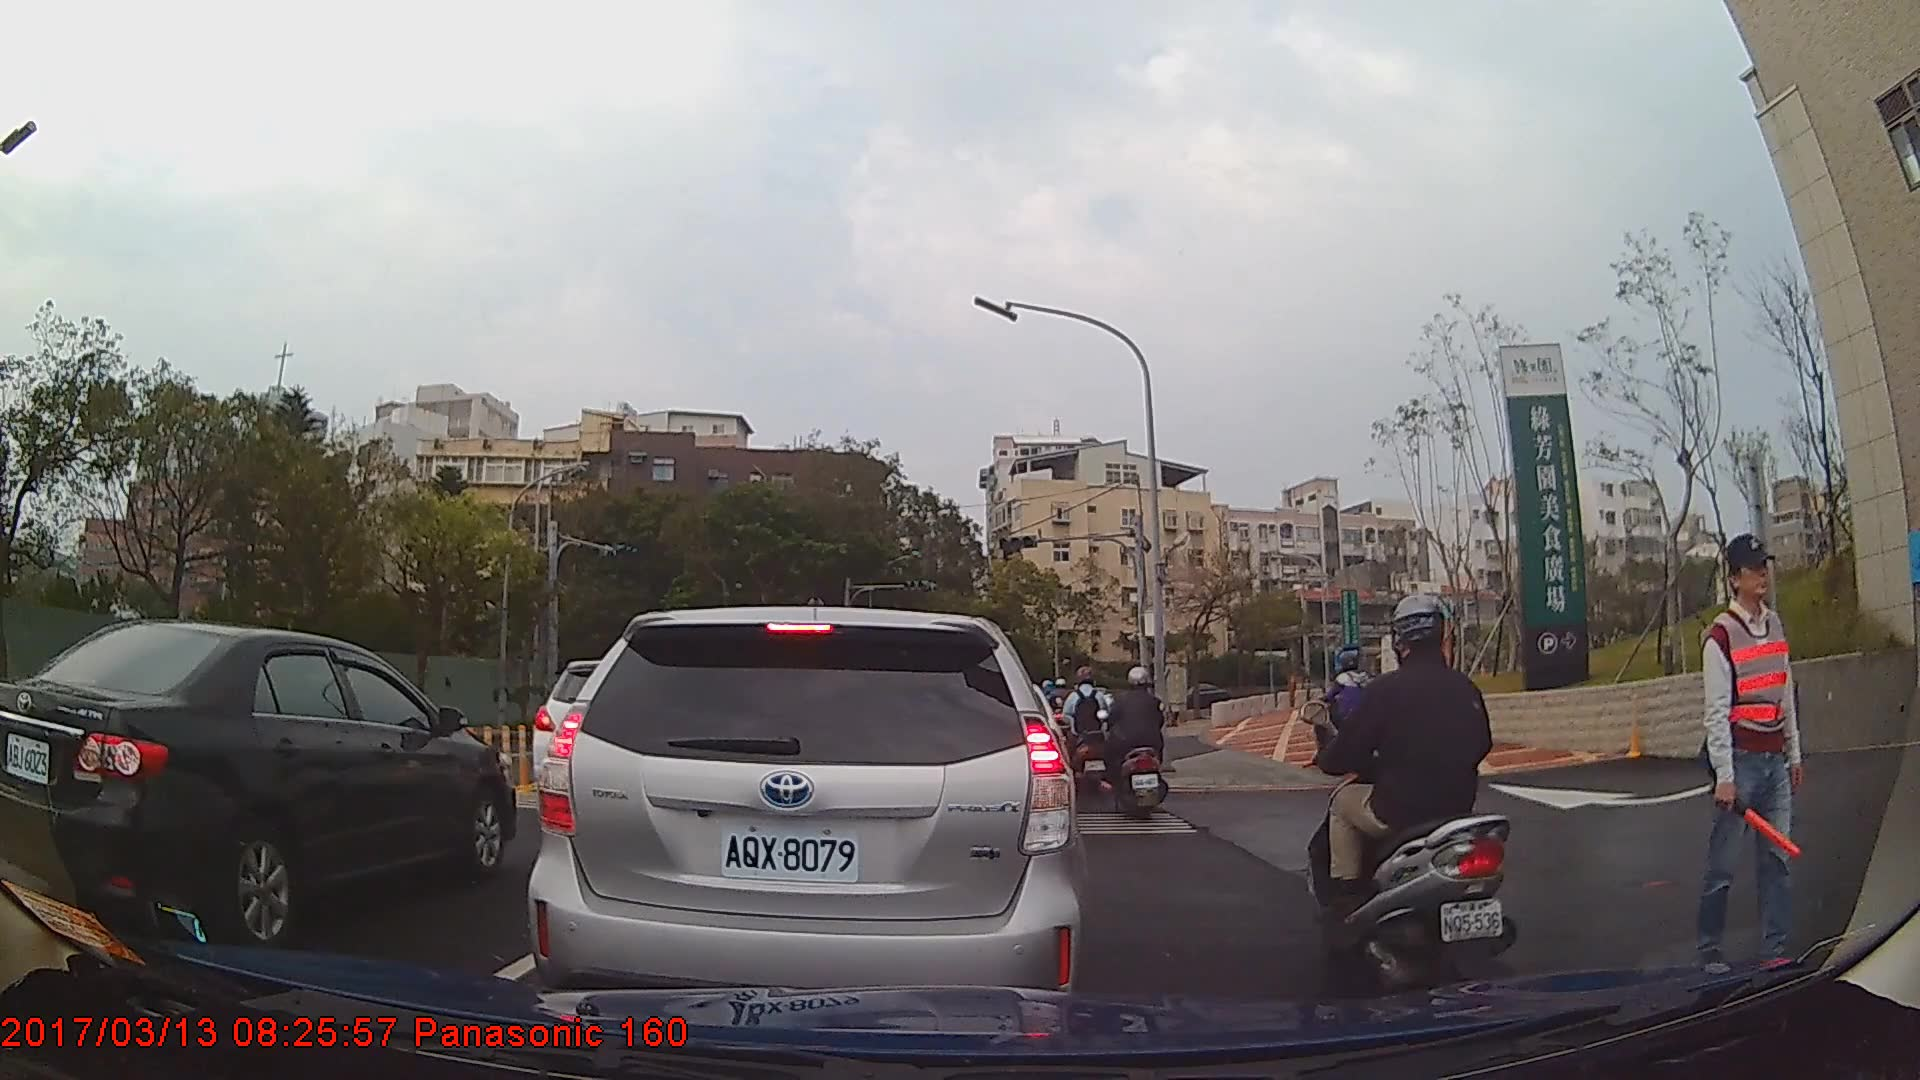pedestrian: (1707, 532, 1825, 977)
rider: (1302, 595, 1525, 1002), (1103, 662, 1171, 828), (1060, 664, 1118, 801)
vehicle: (527, 603, 1079, 1028), (0, 617, 514, 947), (1160, 680, 1228, 713)
